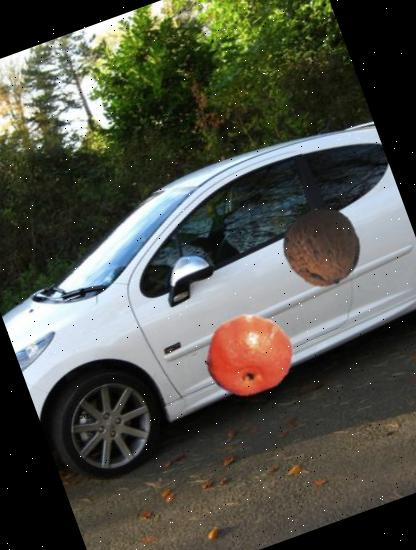Clementine: (189, 296, 307, 414)
Walnut: (272, 198, 372, 298)
